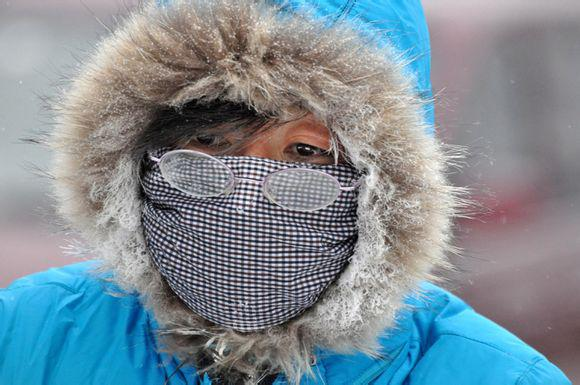OK: (145, 109, 363, 327)
